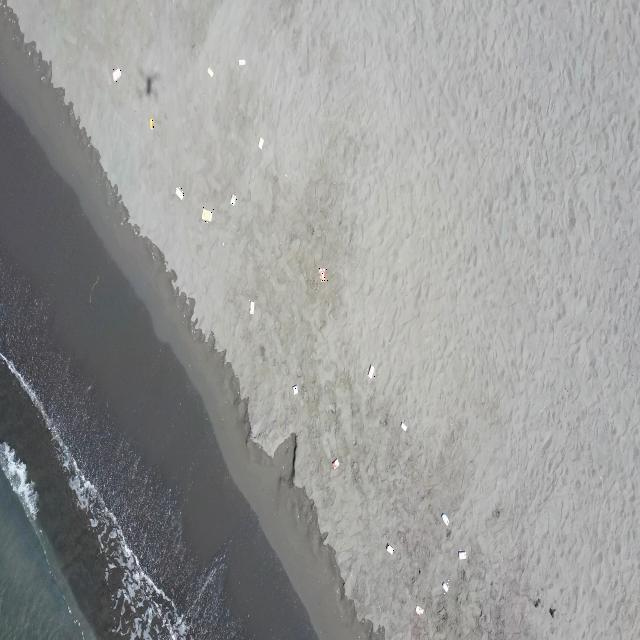retort-pouch: (200, 207, 214, 223), (319, 266, 328, 285), (112, 66, 122, 82), (258, 135, 268, 151), (366, 361, 375, 378), (441, 511, 451, 526), (386, 543, 395, 558), (331, 454, 339, 470), (248, 300, 256, 316), (176, 186, 184, 202), (458, 548, 467, 562), (441, 580, 449, 595), (415, 604, 425, 616), (292, 382, 300, 397), (237, 57, 247, 68), (400, 420, 408, 433), (230, 192, 237, 206), (206, 66, 214, 78), (149, 115, 154, 134)
